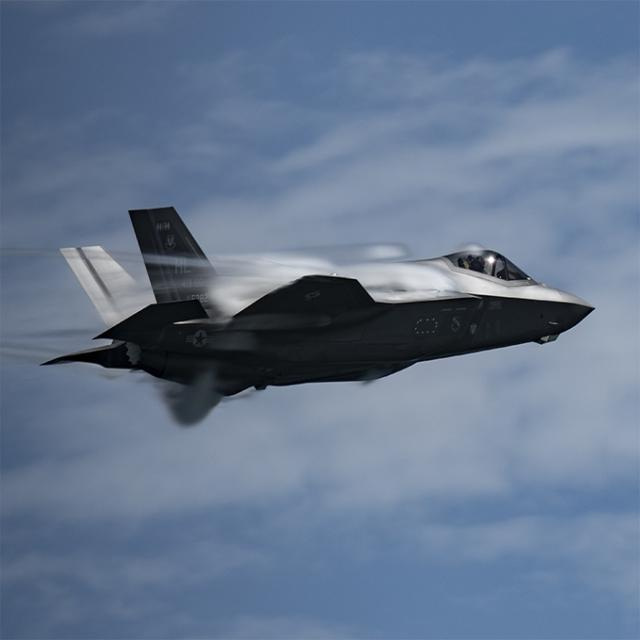MIL_Plane: (39, 205, 596, 396)
